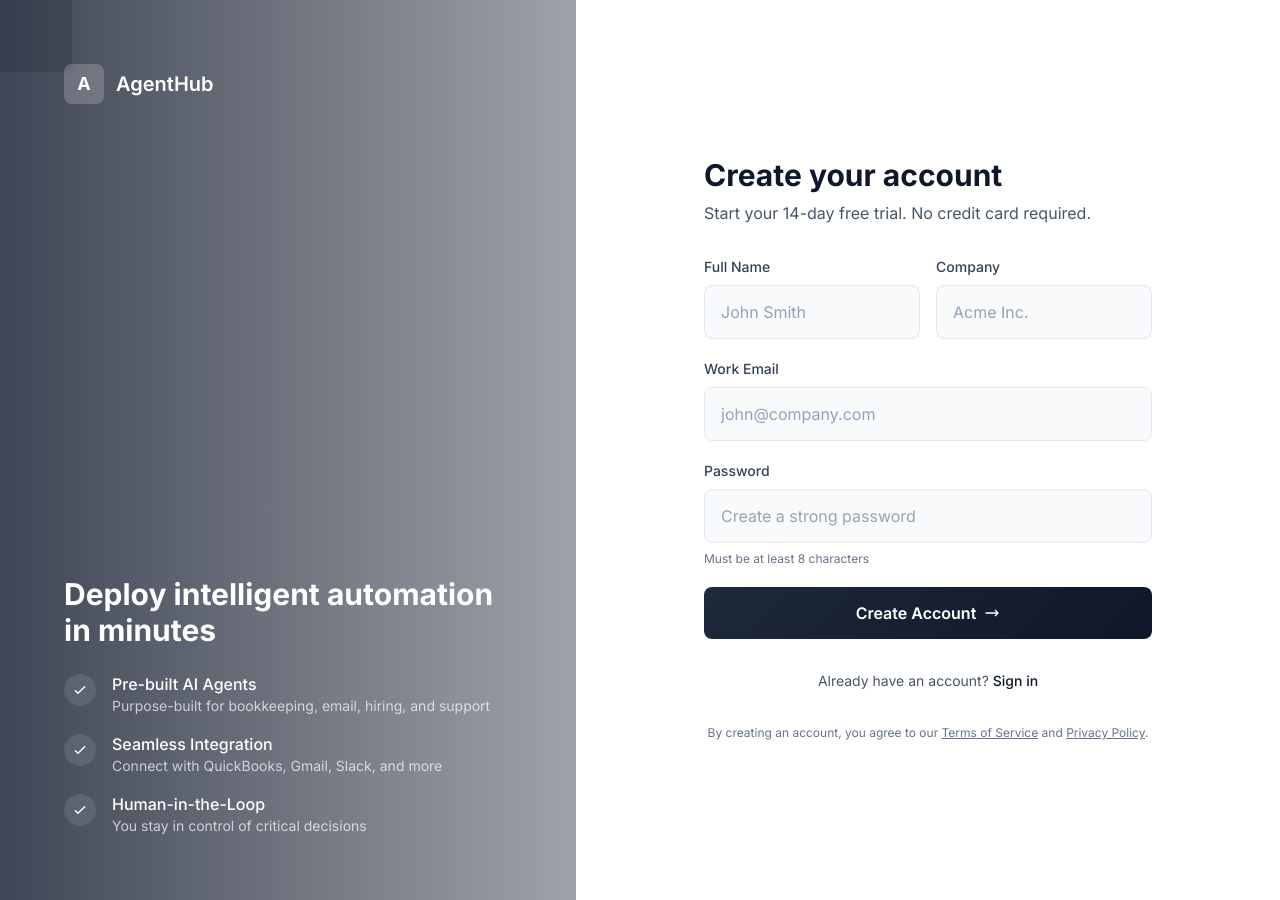
it: SignUpPage › Form Submission › should display error message on signup failure
The image size is (1280, 900).
Type "Jane Doe" into the field with placeholder "John Smith". click: (812, 312)
box: [704,285,920,339]
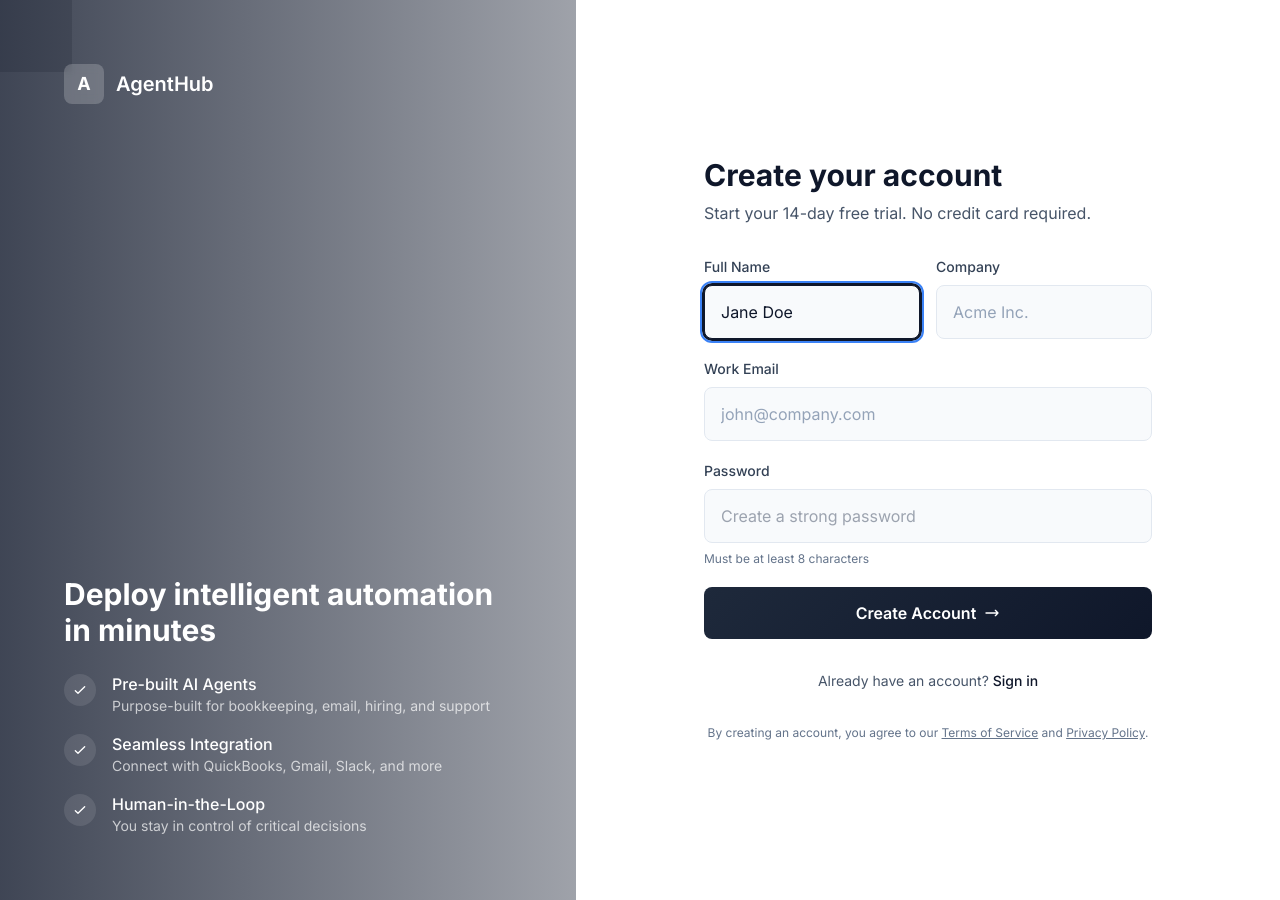
Type "existing@test.com" into the field with placeholder "john@company.com". click: (928, 414)
box: [704,387,1152,441]
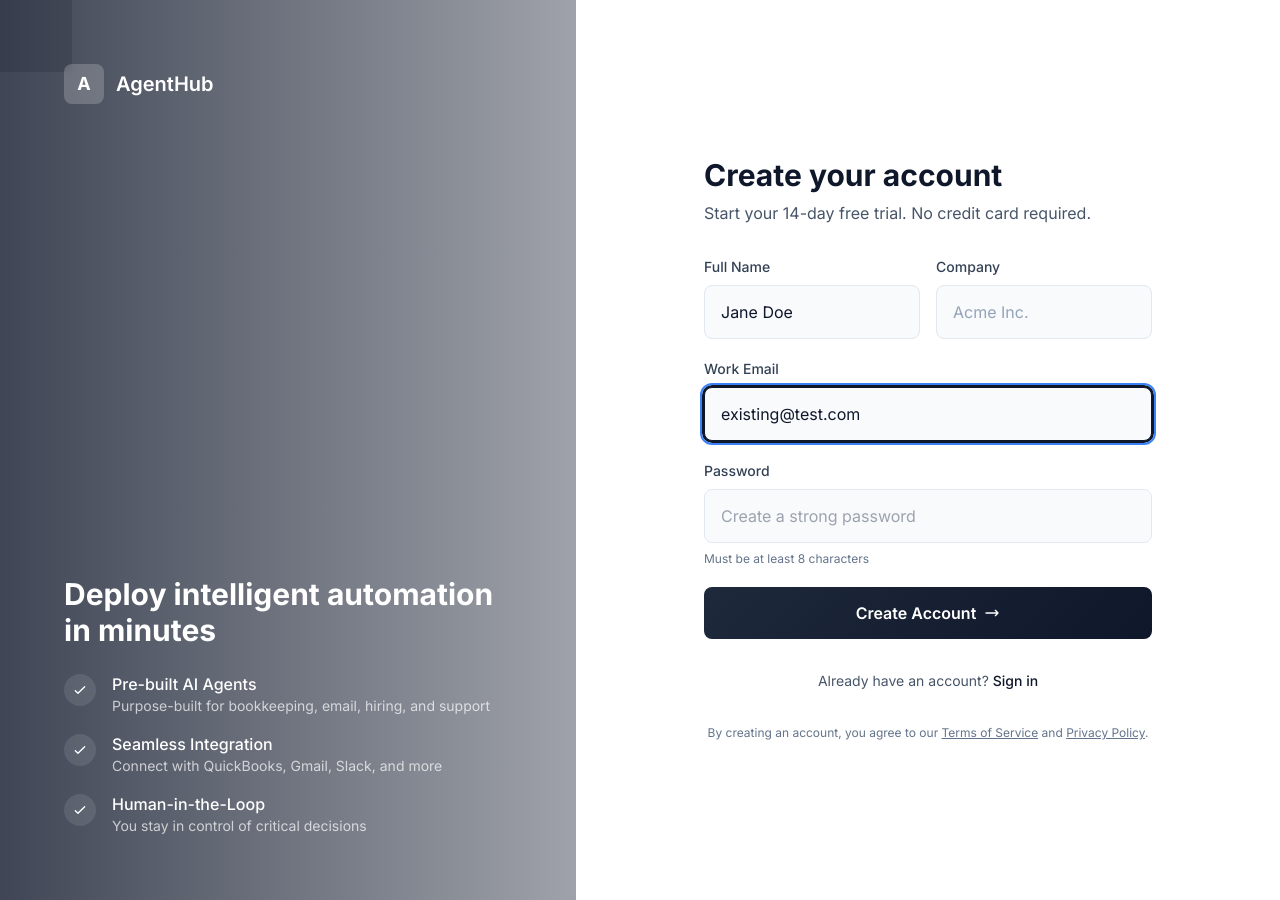
Type "securepass123" into the password field with placeholder "Create a strong password". click: (928, 516)
box: [704,489,1152,543]
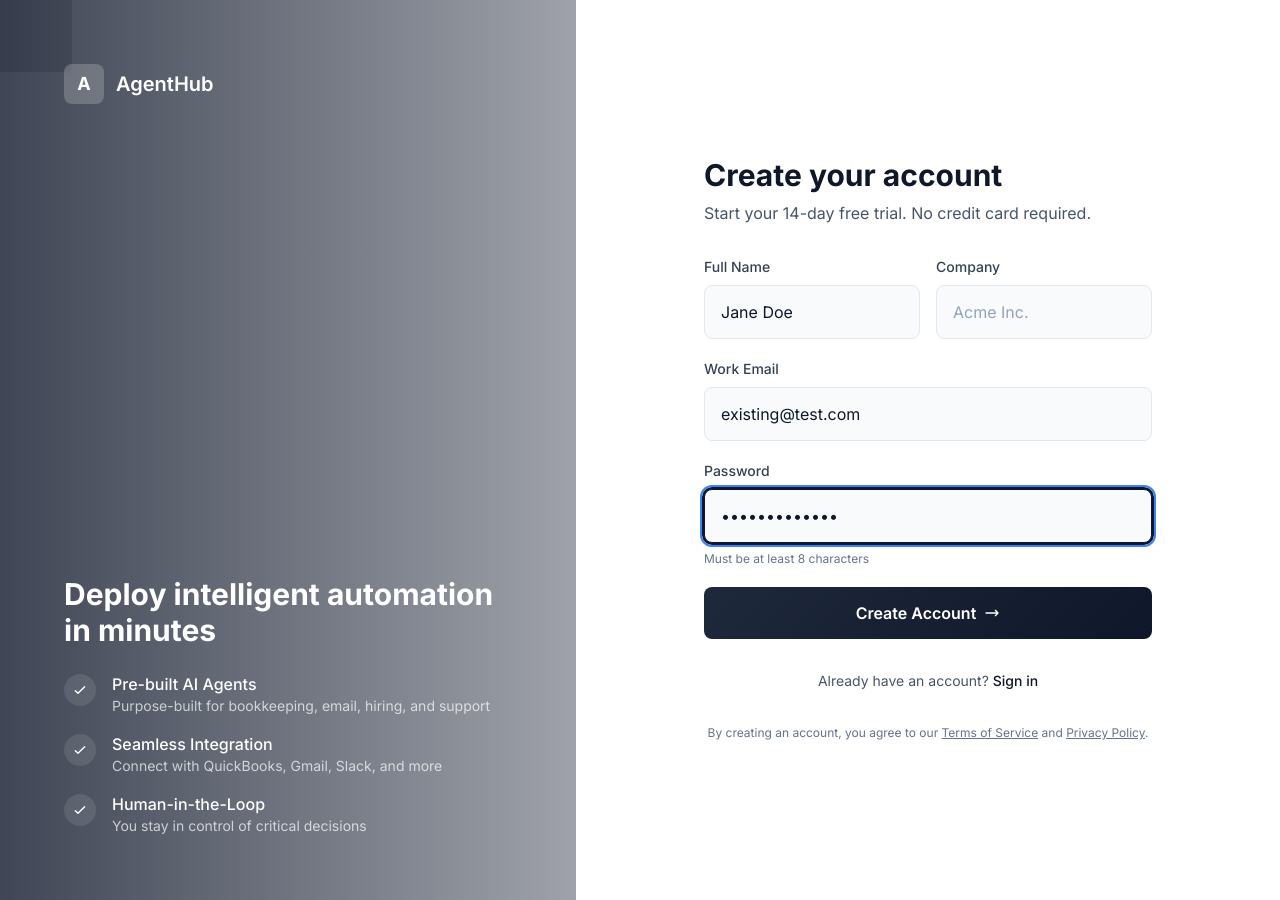
Click the button "Create Account". click: (928, 613)
box: [704,587,1152,639]
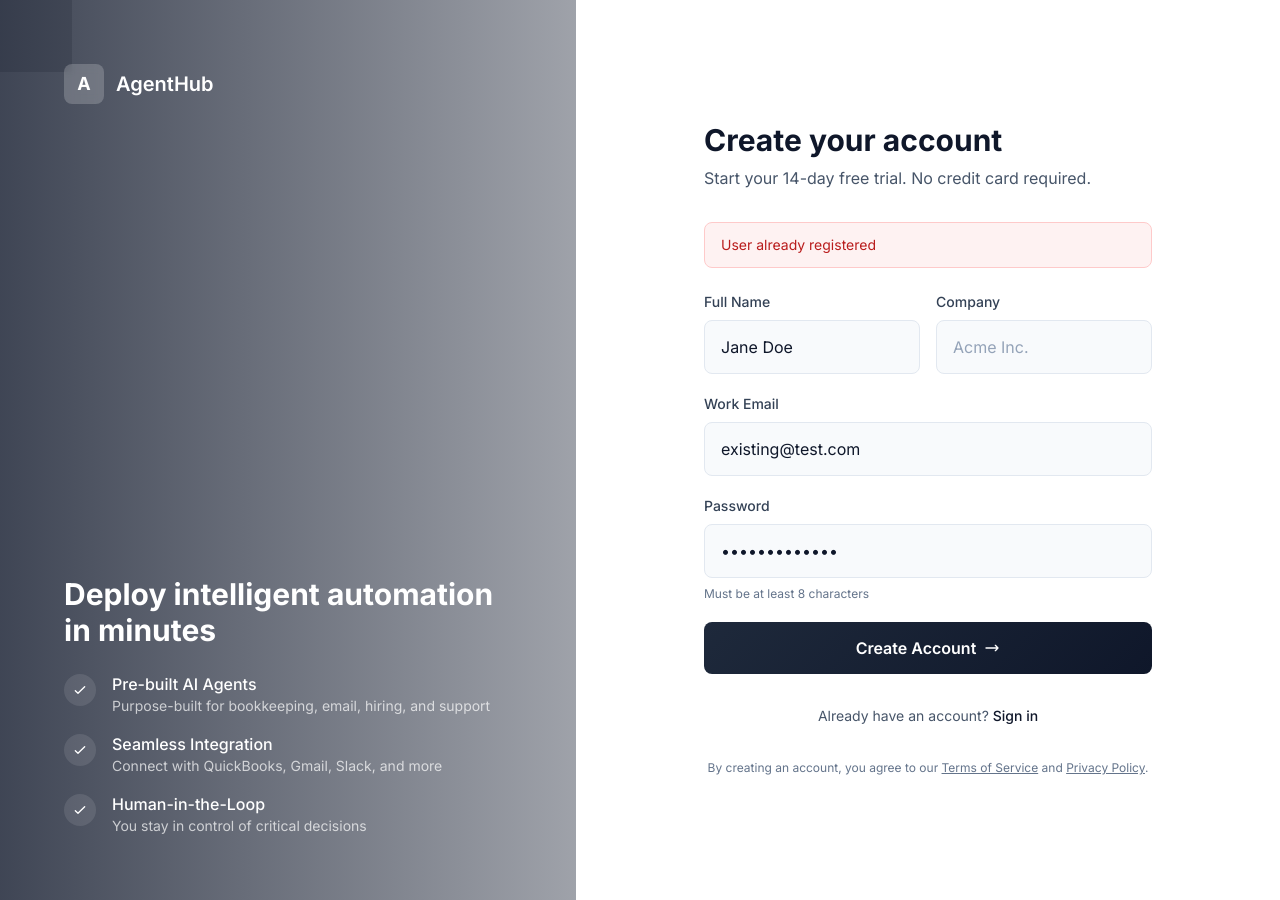
Now the text "User already registered" is shown, box [704,222,1152,268]
